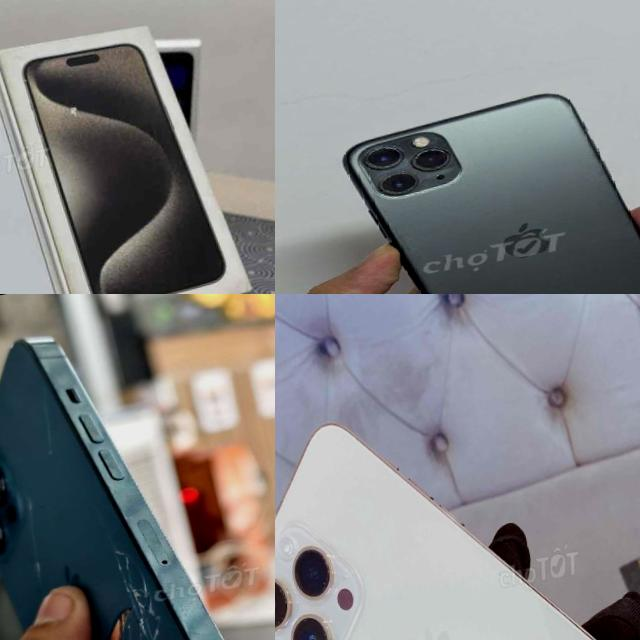physical_damage: (0, 358, 250, 640)
